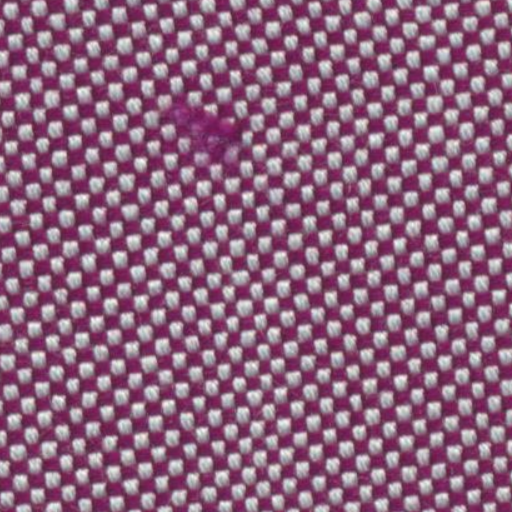DuanSha: (157, 76, 252, 162)
